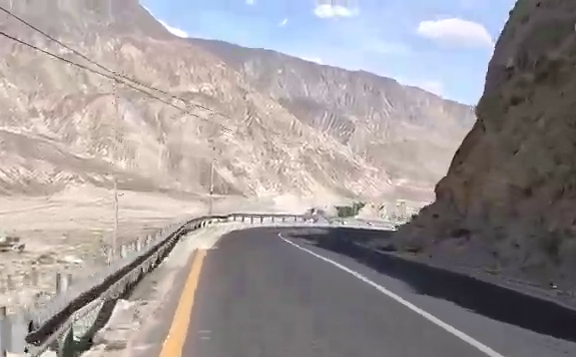stright: (194, 201, 460, 313)
